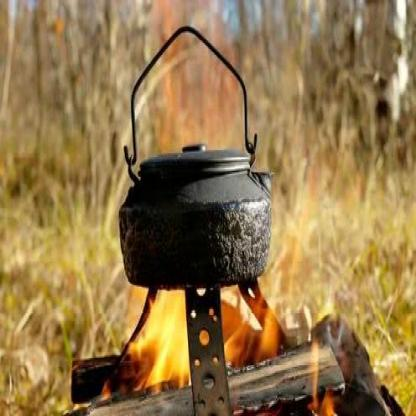fire: (110, 256, 341, 413), (146, 5, 237, 151)
